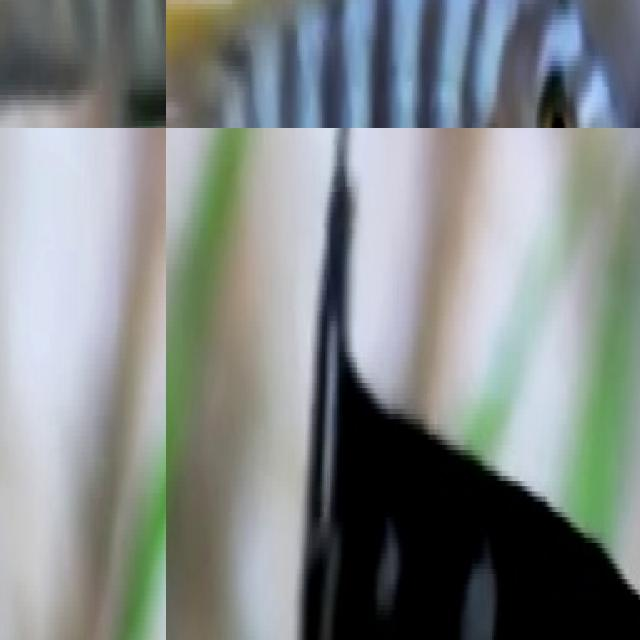fish: (166, 0, 640, 128), (0, 0, 166, 128)
